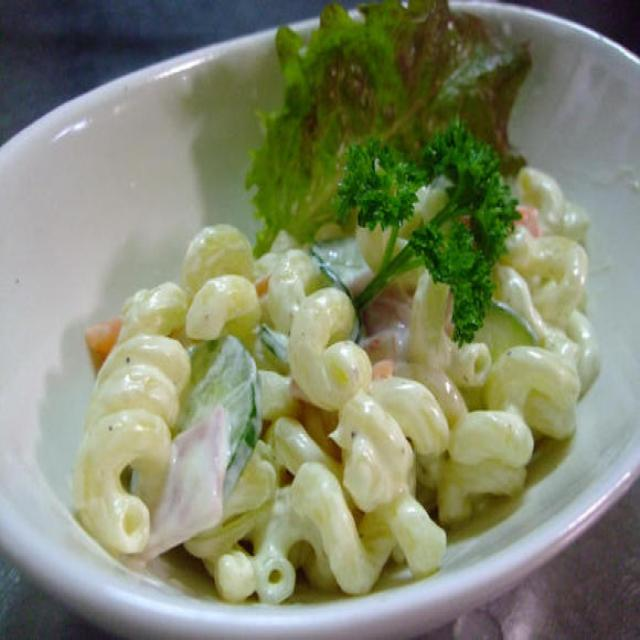蔬菜料理: (2, 0, 640, 637)
